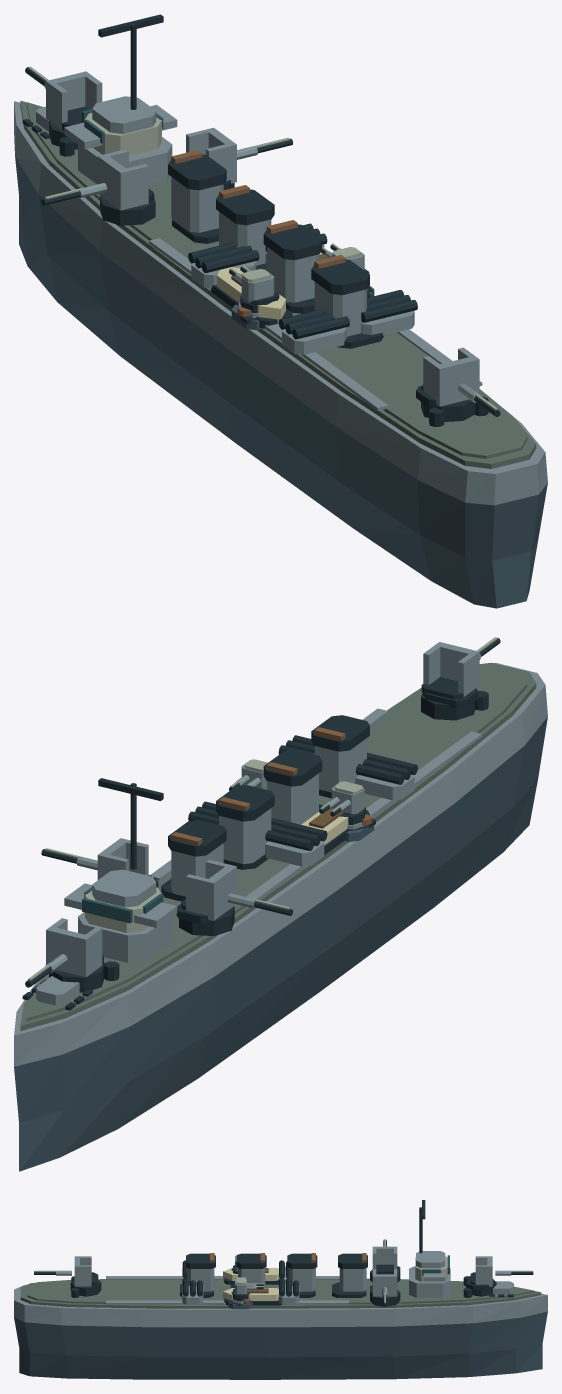
The model's file is historic-clemson.glb.
3 renders of one model, top to bottom at view 1: azimuth 30°, elevation 25°; view 2: azimuth 150°, elevation 25°; view 3: azimuth 270°, elevation 25°, orthographic. The views are drawn at different scales.
Visible parts, largest first — view 1: historic-clemson-historic-clemson-geometry, historic-clemson-part_bridge.121-geometry, historic-clemson-historic_funnel_0.114-geometry, historic-clemson-turret_main_2.069-geometry, historic-clemson-historic_funnel_2.010-geometry, historic-clemson-turret_main_1.083-geometry, historic-clemson-historic_funnel_3.007-geometry, historic-clemson-historic_funnel_1.064-geometry, historic-clemson-turret_main_0.090-geometry, historic-clemson-torpedo_bank_0.030-geometry, historic-clemson-turret_main_3.044-geometry, historic-clemson-torpedo_bank_1.027-geometry (+2 smaller); view 2: historic-clemson-historic-clemson-geometry, historic-clemson-part_bridge.121-geometry, historic-clemson-turret_main_1.083-geometry, historic-clemson-turret_main_2.069-geometry, historic-clemson-historic_funnel_1.064-geometry, historic-clemson-turret_main_0.090-geometry, historic-clemson-historic_funnel_2.010-geometry, historic-clemson-historic_funnel_3.007-geometry, historic-clemson-historic_funnel_0.114-geometry, historic-clemson-torpedo_bank_2.008-geometry, historic-clemson-torpedo_bank_0.030-geometry, historic-clemson-turret_main_3.044-geometry (+2 smaller); view 3: historic-clemson-historic-clemson-geometry, historic-clemson-part_bridge.121-geometry, historic-clemson-historic_funnel_0.114-geometry, historic-clemson-turret_main_1.083-geometry, historic-clemson-historic_funnel_1.064-geometry, historic-clemson-turret_main_0.090-geometry, historic-clemson-historic_funnel_3.007-geometry, historic-clemson-turret_main_3.044-geometry, historic-clemson-historic_funnel_2.010-geometry, historic-clemson-turret_main_2.069-geometry, historic-clemson-torpedo_bank_1.027-geometry, historic-clemson-torpedo_bank_3.005-geometry (+1 smaller).
Boxes of the visible parts, x1,y1,x2,y2 form: historic-clemson-historic-clemson-geometry: [14, 100, 547, 608]; historic-clemson-part_bridge.121-geometry: [64, 14, 177, 184]; historic-clemson-historic_funnel_0.114-geometry: [168, 150, 226, 243]; historic-clemson-turret_main_2.069-geometry: [41, 149, 155, 225]; historic-clemson-historic_funnel_2.010-geometry: [263, 220, 322, 313]; historic-clemson-turret_main_1.083-geometry: [416, 347, 500, 421]; historic-clemson-historic_funnel_3.007-geometry: [311, 255, 384, 348]; historic-clemson-historic_funnel_1.064-geometry: [216, 185, 274, 270]; historic-clemson-turret_main_0.090-geometry: [25, 66, 102, 149]; historic-clemson-torpedo_bank_0.030-geometry: [278, 308, 349, 354]; historic-clemson-turret_main_3.044-geometry: [186, 127, 292, 189]; historic-clemson-torpedo_bank_1.027-geometry: [361, 290, 417, 335]; historic-clemson-historic-clemson-geometry: [14, 662, 547, 1171]; historic-clemson-part_bridge.121-geometry: [64, 778, 177, 962]; historic-clemson-turret_main_1.083-geometry: [421, 637, 500, 720]; historic-clemson-turret_main_2.069-geometry: [176, 859, 293, 936]; historic-clemson-historic_funnel_1.064-geometry: [216, 785, 274, 869]; historic-clemson-turret_main_0.090-geometry: [25, 918, 104, 992]; historic-clemson-historic_funnel_2.010-geometry: [263, 750, 322, 824]; historic-clemson-historic_funnel_3.007-geometry: [311, 715, 369, 798]; historic-clemson-historic_funnel_0.114-geometry: [161, 820, 226, 901]; historic-clemson-torpedo_bank_2.008-geometry: [265, 818, 327, 866]; historic-clemson-torpedo_bank_0.030-geometry: [355, 752, 417, 800]; historic-clemson-turret_main_3.044-geometry: [41, 838, 158, 887]; historic-clemson-historic-clemson-geometry: [14, 1268, 547, 1379]; historic-clemson-part_bridge.121-geometry: [409, 1200, 450, 1297]; historic-clemson-historic_funnel_0.114-geometry: [332, 1253, 367, 1297]; historic-clemson-turret_main_1.083-geometry: [34, 1256, 101, 1296]; historic-clemson-historic_funnel_1.064-geometry: [287, 1253, 317, 1297]; historic-clemson-turret_main_0.090-geometry: [466, 1256, 533, 1296]; historic-clemson-historic_funnel_3.007-geometry: [180, 1253, 215, 1297]; historic-clemson-turret_main_3.044-geometry: [370, 1269, 400, 1306]; historic-clemson-historic_funnel_2.010-geometry: [230, 1253, 266, 1288]; historic-clemson-turret_main_2.069-geometry: [370, 1239, 400, 1282]; historic-clemson-torpedo_bank_1.027-geometry: [182, 1278, 203, 1304]; historic-clemson-torpedo_bank_3.005-geometry: [278, 1278, 299, 1304].
Size of the model in its own units: 1.17 by 1.37 by 4.11.
